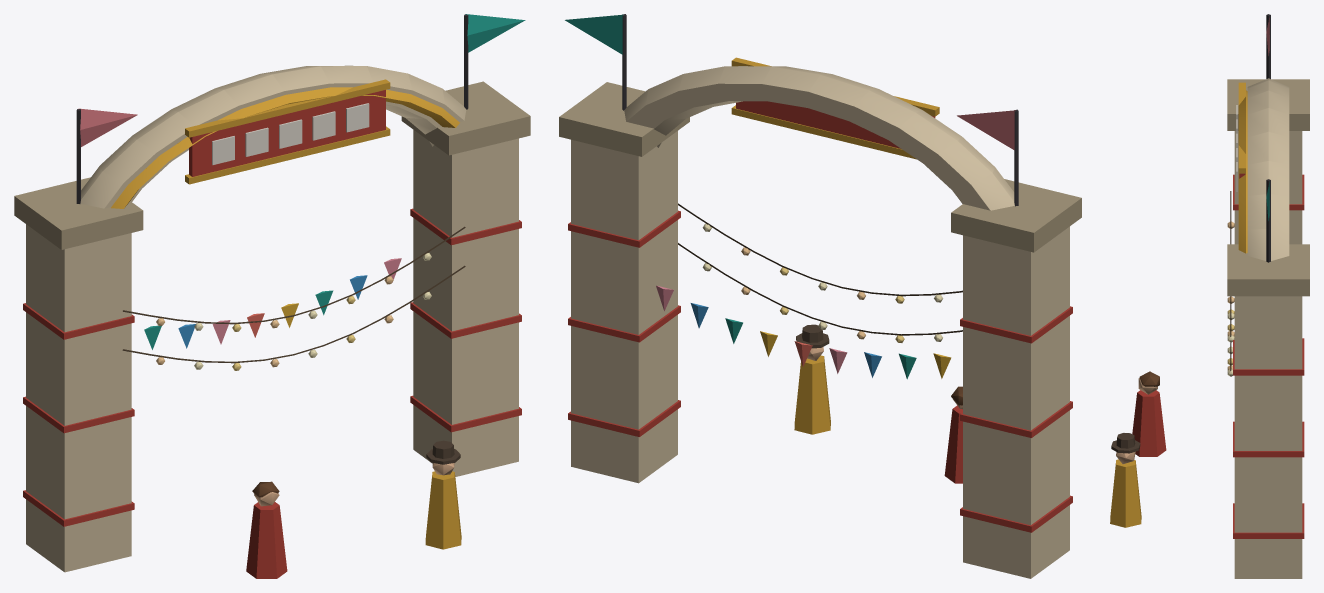
File: festival_arch.glb
3 views of the same model, side by side, from view 1: azimuth 30°, elevation 25°; view 2: azimuth 150°, elevation 25°; view 3: azimuth 270°, elevation 25° (orthographic). The views are drawn at different scales.
Visible parts, largest first — view 1: town-festival_arch; view 2: town-festival_arch; view 3: town-festival_arch.
Part boxes in pixels (x1,y1,x2,y2): town-festival_arch: (14, 14, 530, 578); town-festival_arch: (559, 14, 1081, 578); town-festival_arch: (1110, 14, 1309, 578).
Size of the model in its own units: 6.55 by 5.66 by 2.66.
